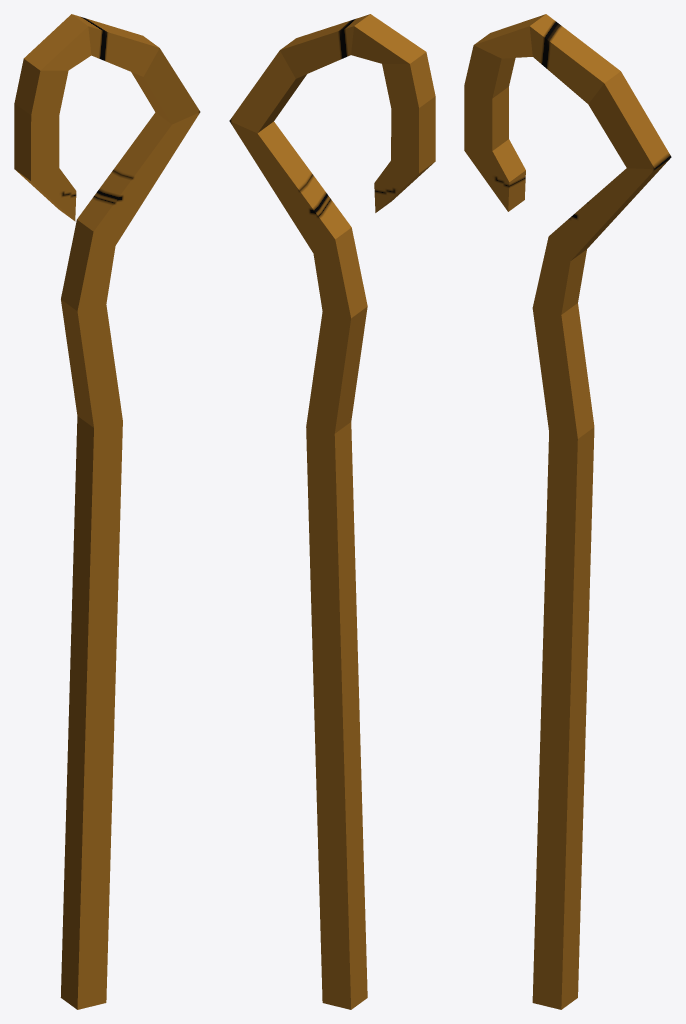
File: staff_apprentice.glb
3 views of the same model, side by side, from view 1: azimuth 30°, elevation 25°; view 2: azimuth 150°, elevation 25°; view 3: azimuth 330°, elevation 25° (orthographic).
Visible parts, largest first — view 1: Cube.002; view 2: Cube.002; view 3: Cube.002.
Boxes of the visible parts, x1,y1,x2,y2 form: Cube.002: (14, 14, 200, 1009); Cube.002: (229, 14, 435, 1009); Cube.002: (464, 14, 671, 1009).
Size of the model in its own units: 1.07 by 5.57 by 0.2843.
Materials: 1 (1 with a texture image).
